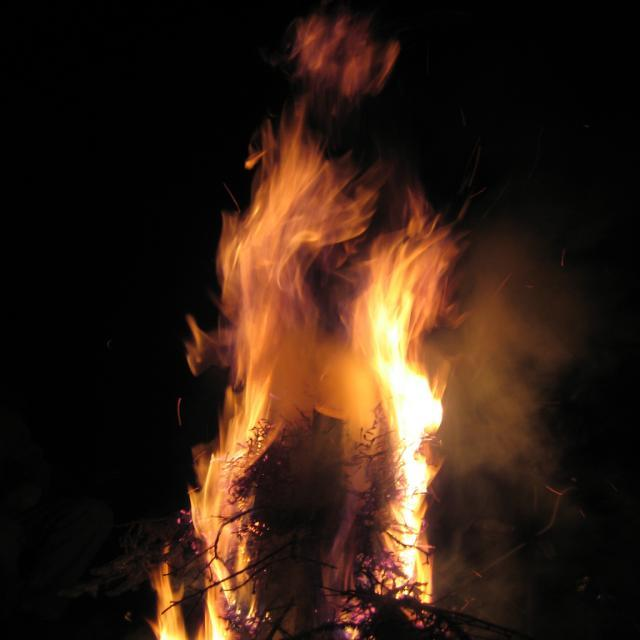Fire: (373, 288, 452, 440)
